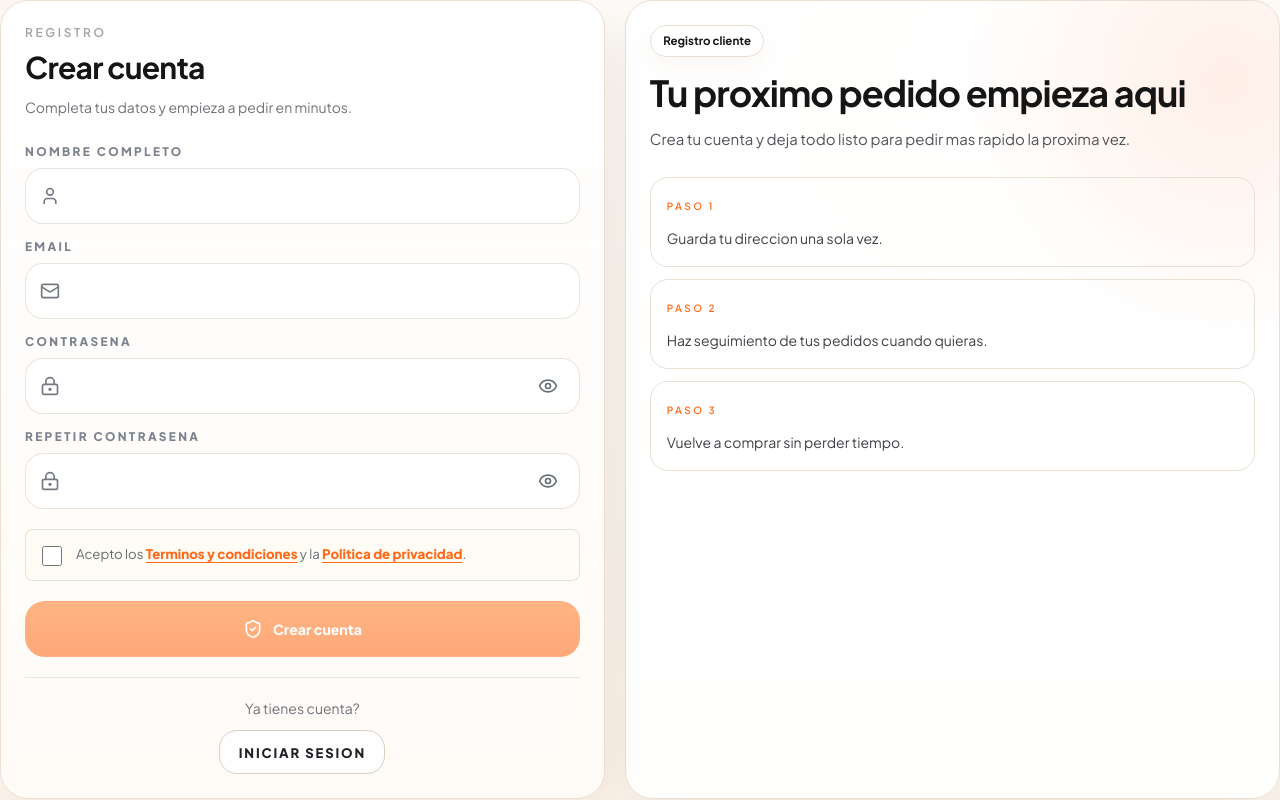
it: AuthFormCard › shows an inline error when register passwords do not match
The width and height of the screenshot is (1280, 800).
Step 1. Type "Cliente Demo" into the field labelled "Nombre completo" → (321, 196), box left=73, top=170, right=570, bottom=222
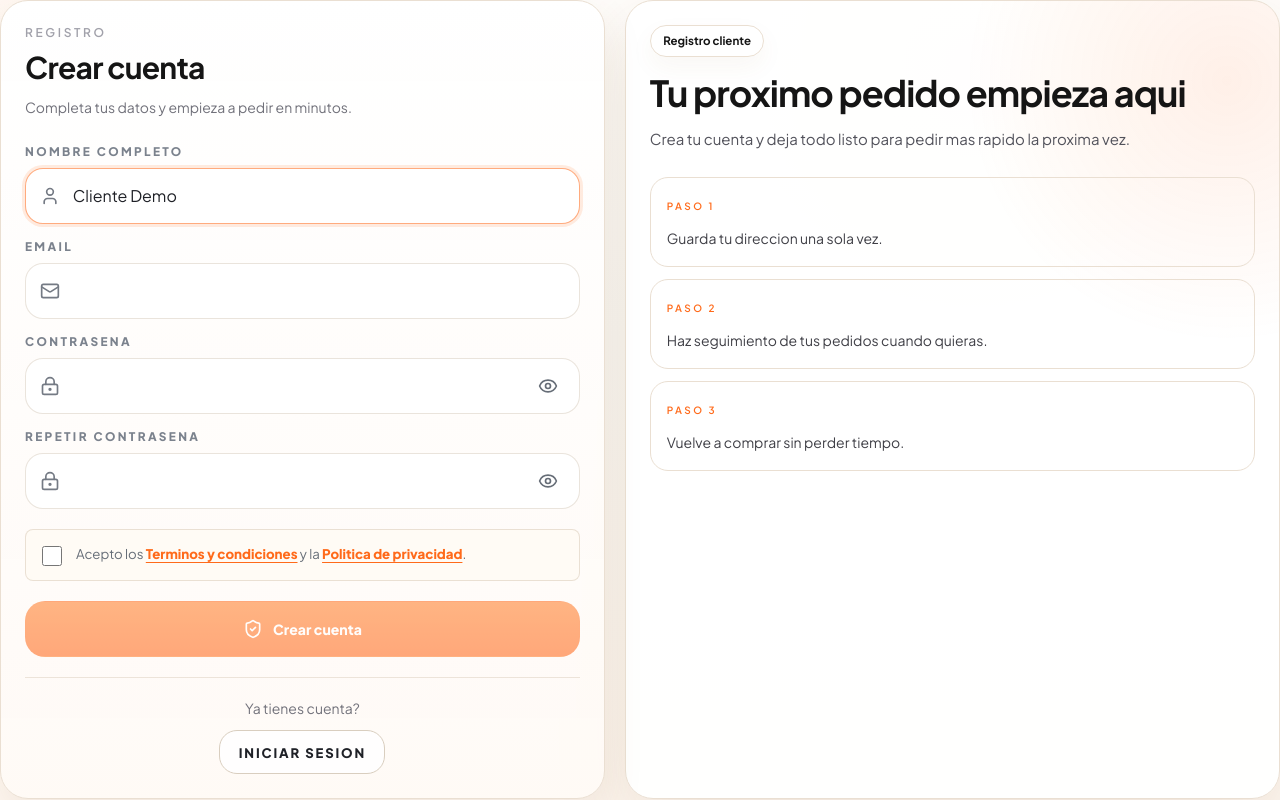
Step 2. Type "cliente@test.com" into the field labelled "Email" → (321, 291), box left=73, top=265, right=570, bottom=317
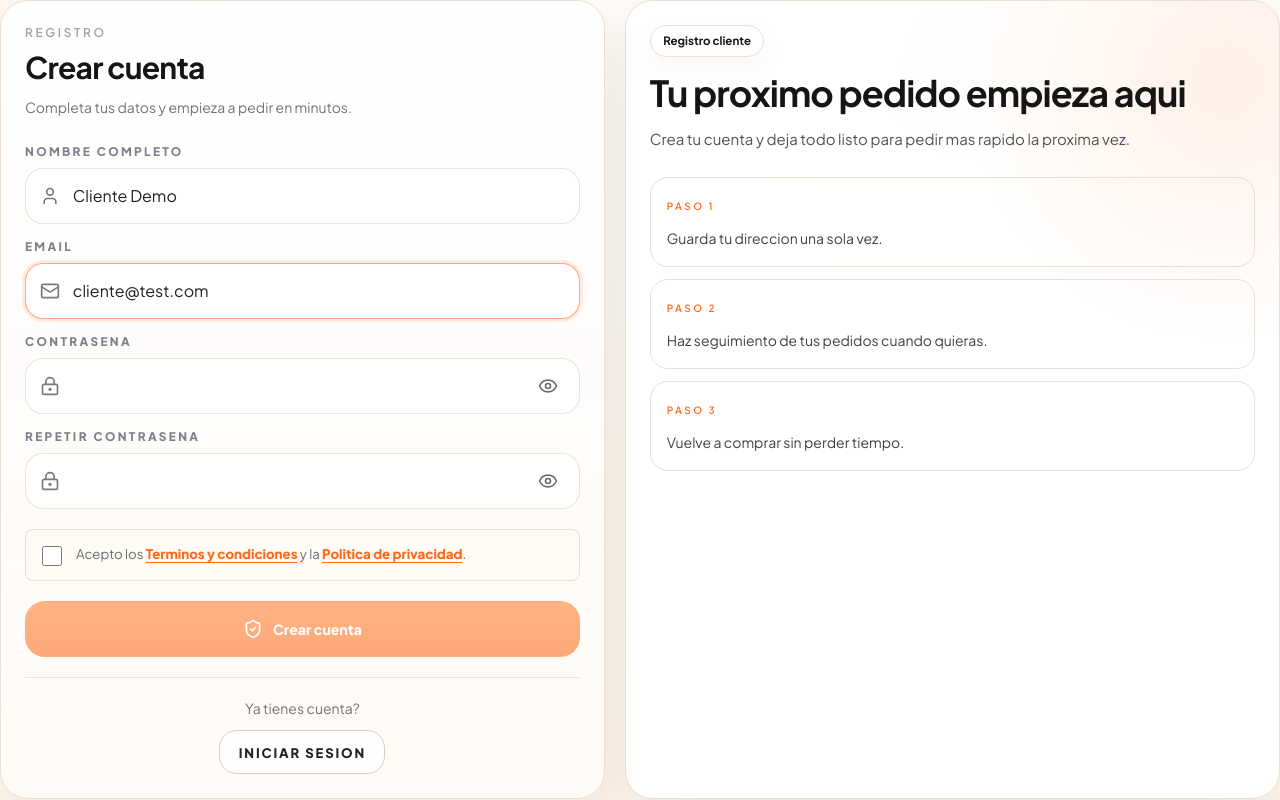
Step 3. Type "secret123" into the password field labelled "Contrasena" → (293, 386), box left=73, top=360, right=513, bottom=412
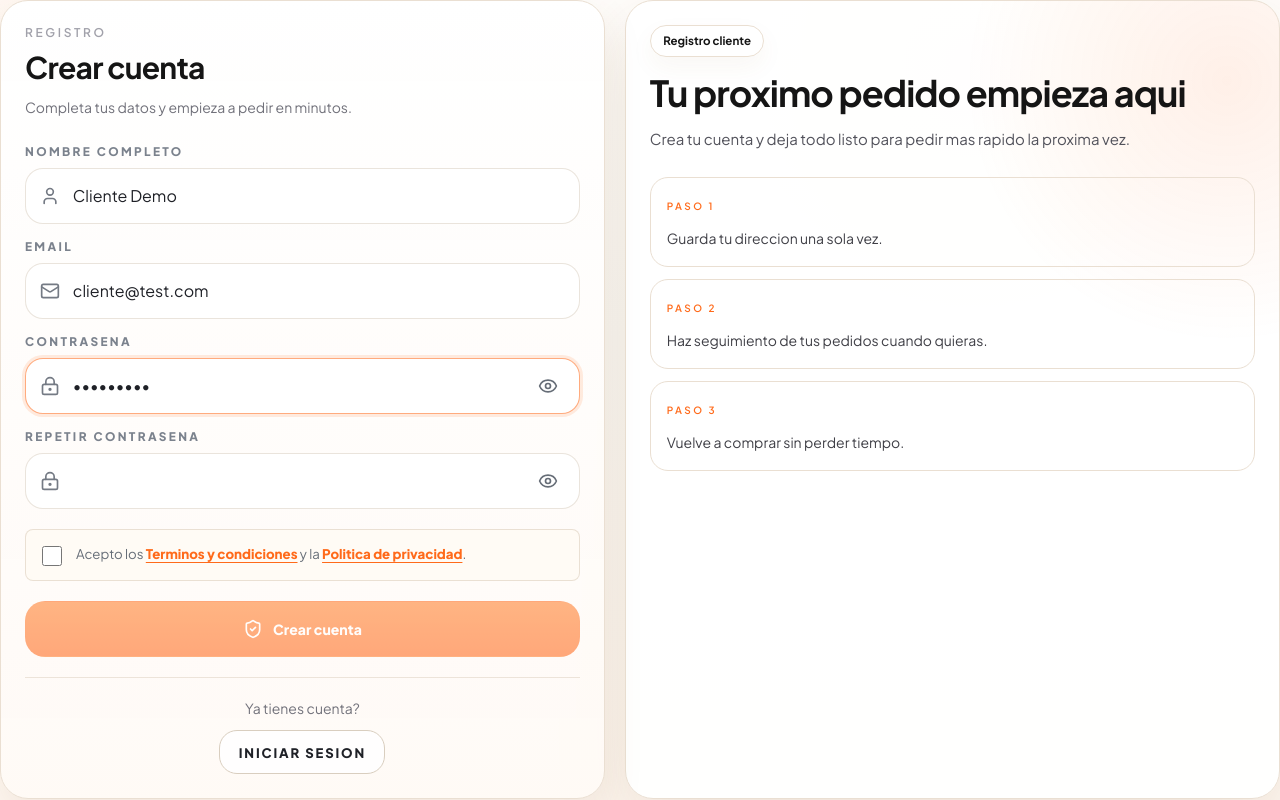
Step 4. Type "secret124" into the password field labelled "Repetir contrasena" → (293, 481), box left=73, top=455, right=513, bottom=507
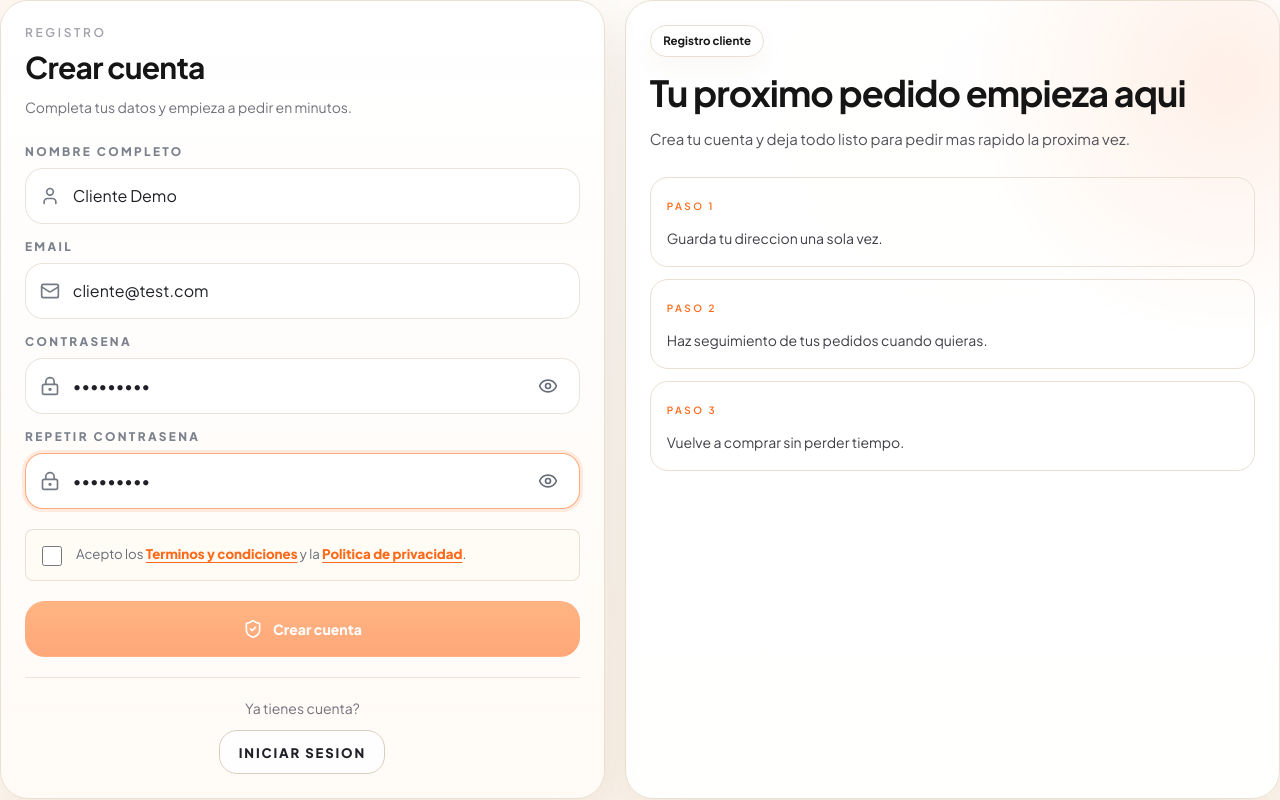
Step 5. Click the checkbox → (52, 556), box left=42, top=546, right=62, bottom=566
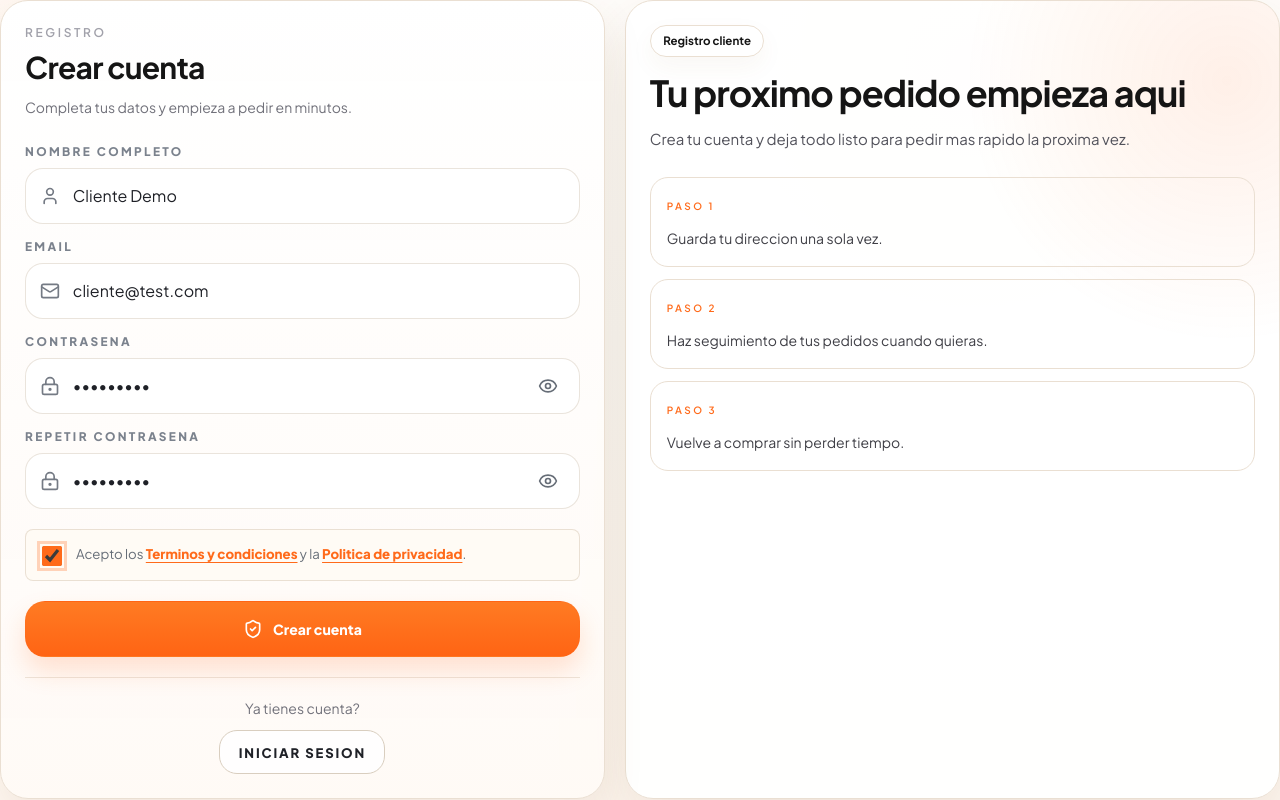
Step 6. Click the button "Crear cuenta" → (302, 629), box left=25, top=601, right=580, bottom=657
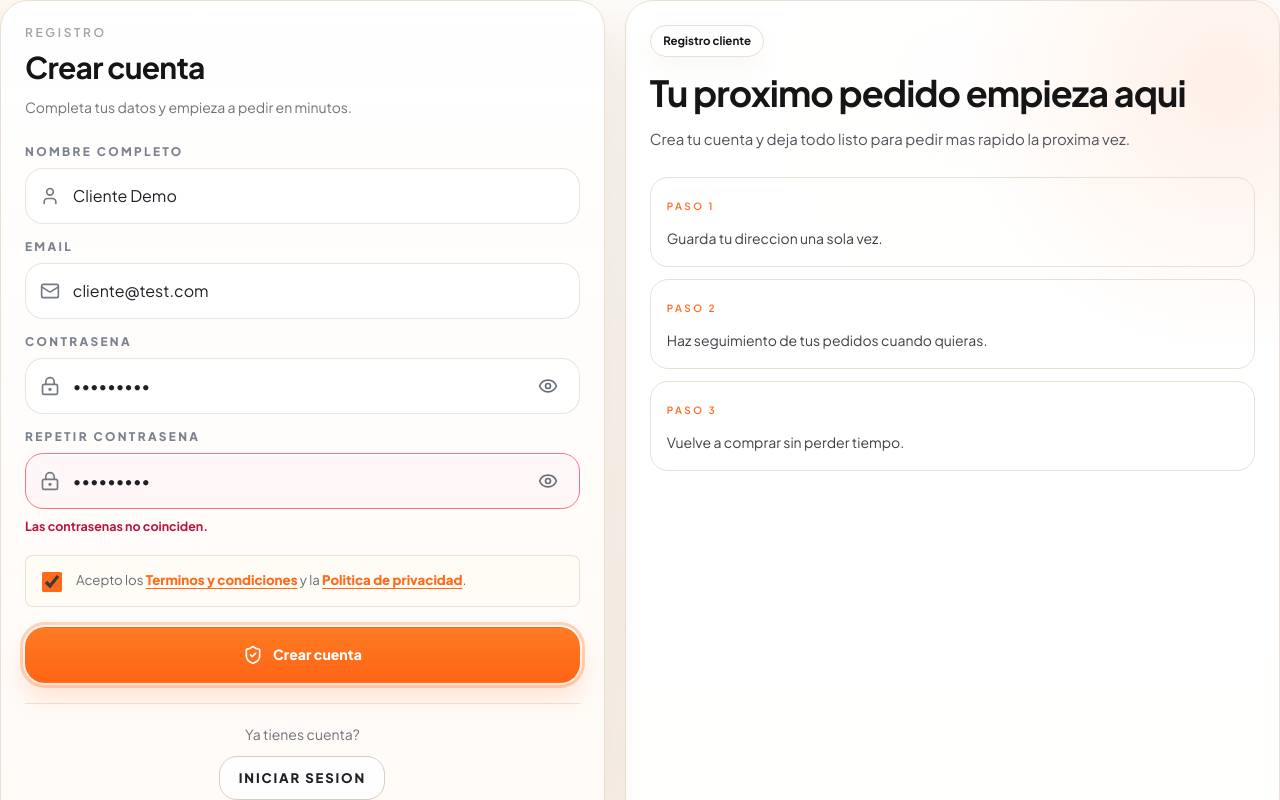
Check: the text "Las contrasenas no coinciden." is shown, box left=25, top=518, right=208, bottom=534
